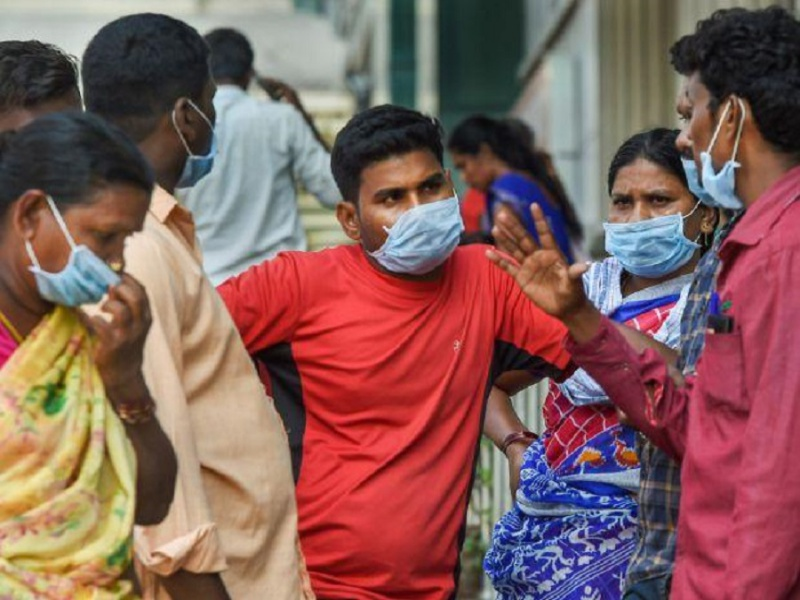ManaoArotava: (317, 112, 475, 279), (592, 126, 705, 279)
